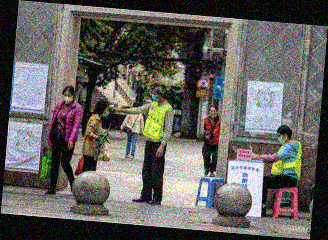mask_weared_incorrect: (209, 108, 217, 117)
with_mask: (62, 92, 73, 103), (150, 90, 159, 102), (277, 133, 285, 144), (102, 106, 110, 117)
